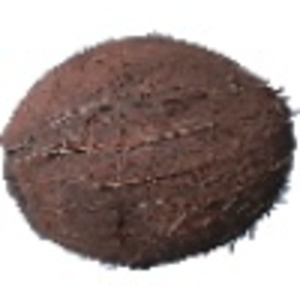coco: (1, 36, 300, 271)
